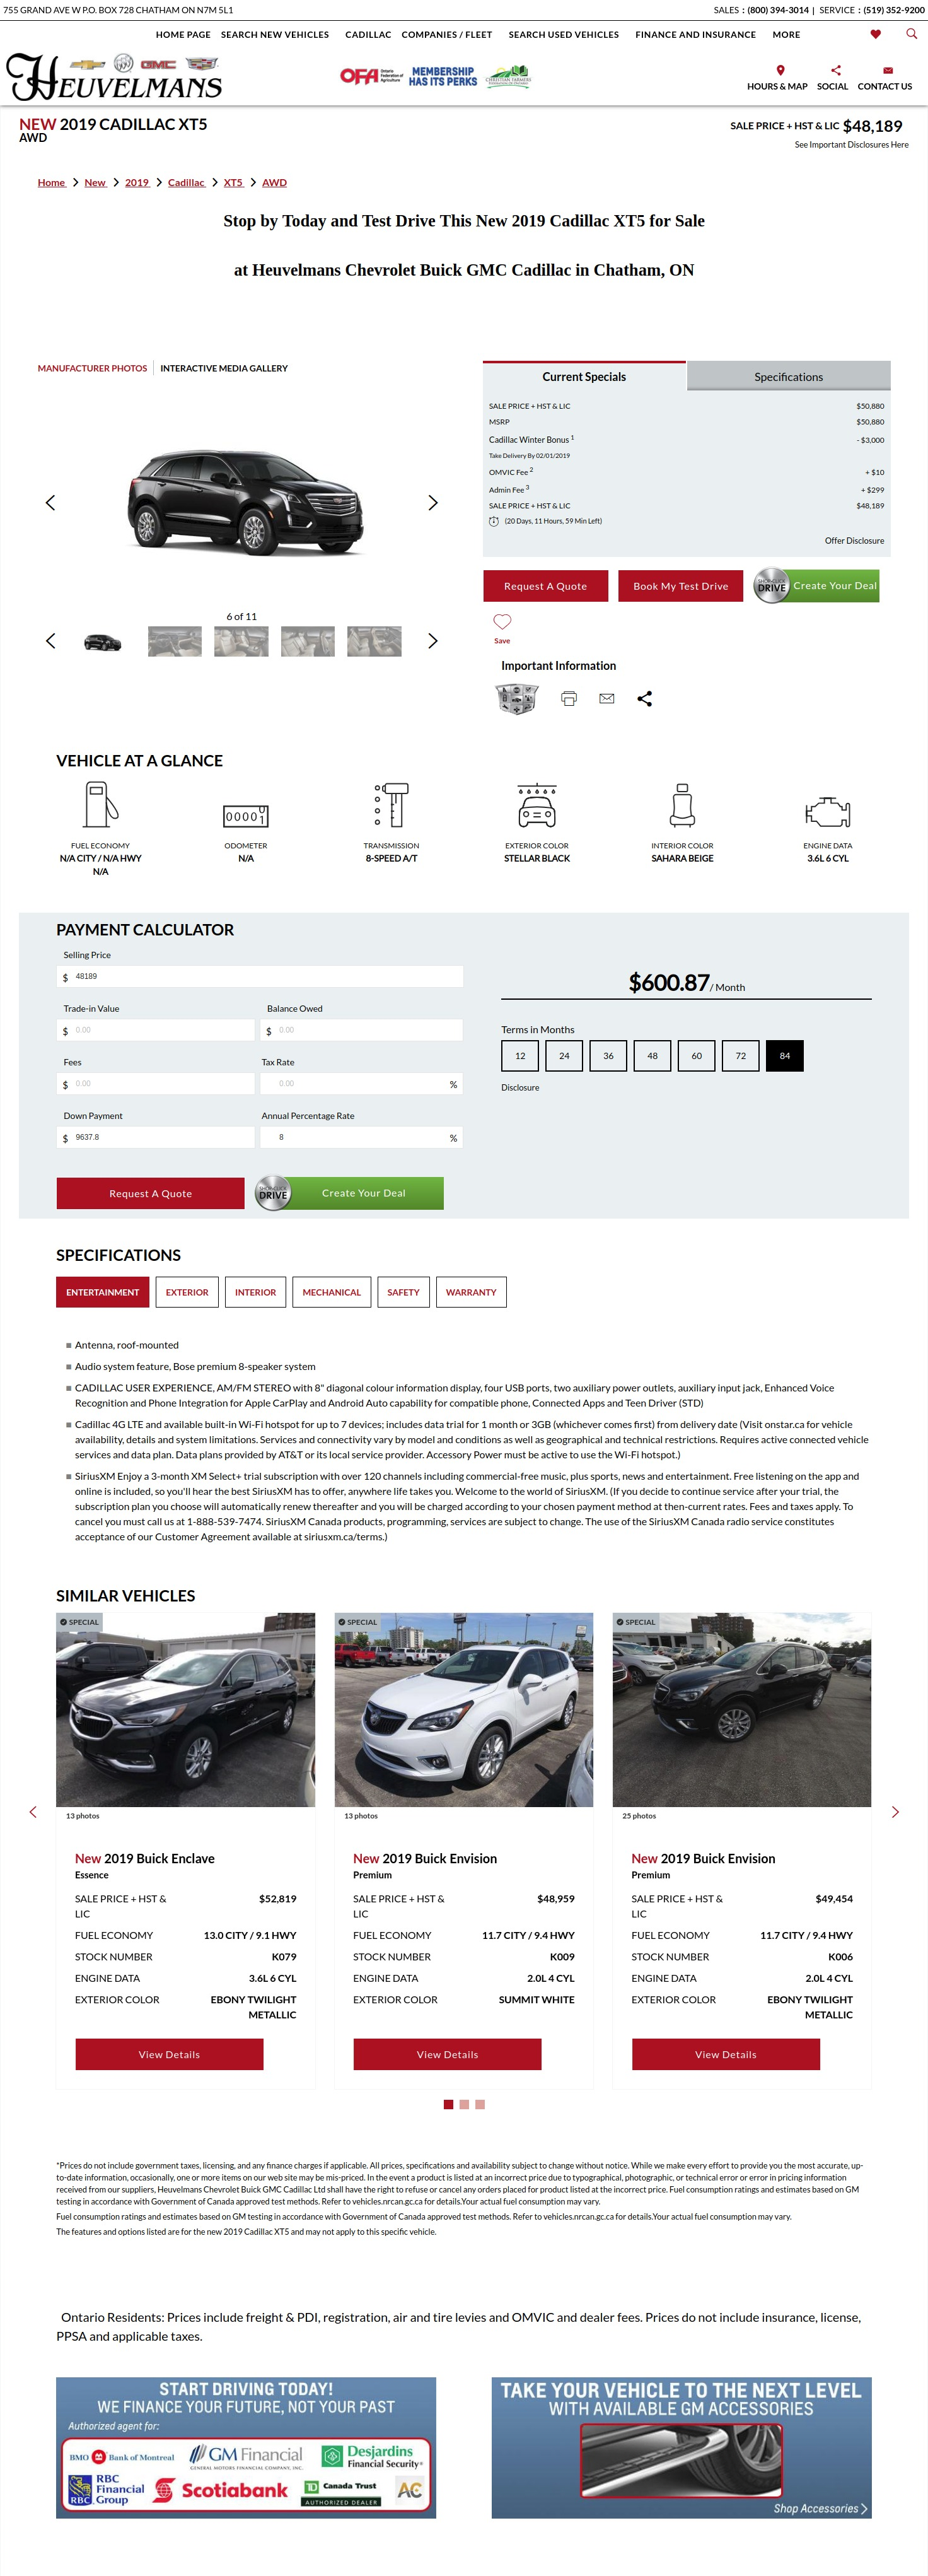car: (429, 632, 439, 649)
